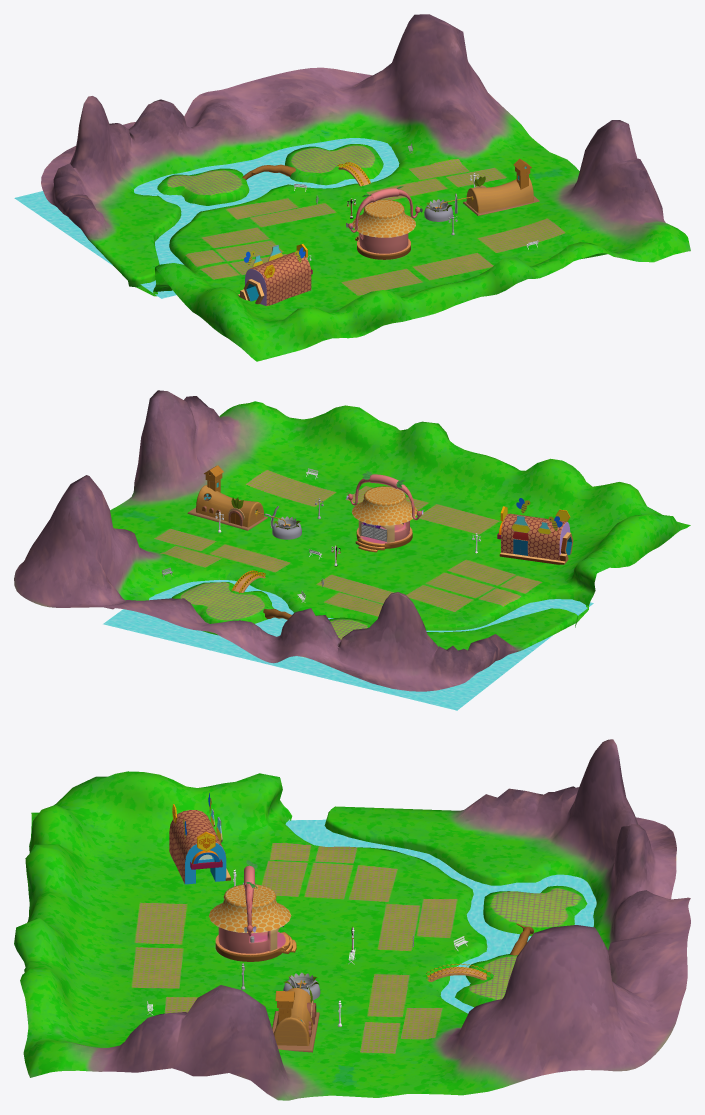
File: bee_envmnt.fbx
3 views of the same model, one above another, from view 1: azimuth 30°, elevation 25°; view 2: azimuth 150°, elevation 25°; view 3: azimuth 270°, elevation 25° (orthographic). The views are drawn at different scales.
Parts seen in each view (by area): view 1: ground, water, exterior (×2), pCylinder2, polySurface7, polySurface5; view 2: ground, water, exterior (×2), pCylinder2, pCylinder3, polySurface5; view 3: ground, water, exterior (×2), pCylinder2, pCylinder3, polySurface7, bridge.
Part boxes in pixels (x1,y1,x2,y2): ground: (41,14,690,361); water: (14,138,399,298); exterior (×2): (245,177,533,305); pCylinder2: (352,199,415,237); polySurface7: (358,232,408,253); polySurface5: (350,188,417,232); ground: (14,390,690,691); water: (103,580,593,710); exterior (×2): (196,485,570,560); pCylinder2: (352,486,417,525); pCylinder3: (355,523,412,552); polySurface5: (350,474,419,520); ground: (14,739,690,1100); water: (285,819,596,1013); exterior (×2): (169,810,312,1045); pCylinder2: (209,884,291,933); pCylinder3: (215,931,296,961); polySurface7: (218,927,279,953); bridge: (426,963,490,982).
Bounding box in the file's own units: 7832 × 1860 × 7744.
